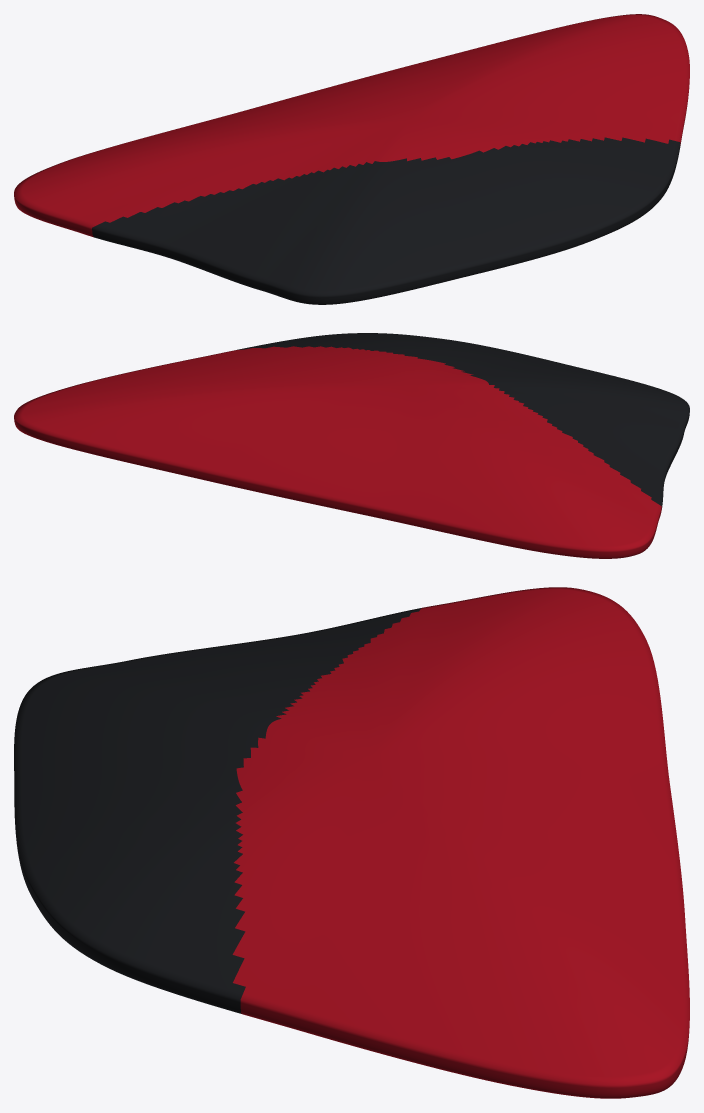
The model's file is side-cover-left-candidate-v1.glb.
3 views of the same model, one above another, from view 1: azimuth 30°, elevation 25°; view 2: azimuth 150°, elevation 25°; view 3: azimuth 270°, elevation 25° (orthographic). The views are drawn at different scales.
Visible parts, largest first — view 1: LEFT_COVER_OUTER_SKIN; view 2: LEFT_COVER_OUTER_SKIN; view 3: LEFT_COVER_OUTER_SKIN.
Boxes of the visible parts, bbox=[...] form: LEFT_COVER_OUTER_SKIN: bbox=[14, 14, 689, 304]; LEFT_COVER_OUTER_SKIN: bbox=[14, 333, 689, 558]; LEFT_COVER_OUTER_SKIN: bbox=[14, 587, 689, 1098].
Bounding box in the file's own units: 0.2718 × 0.022 × 0.156.
